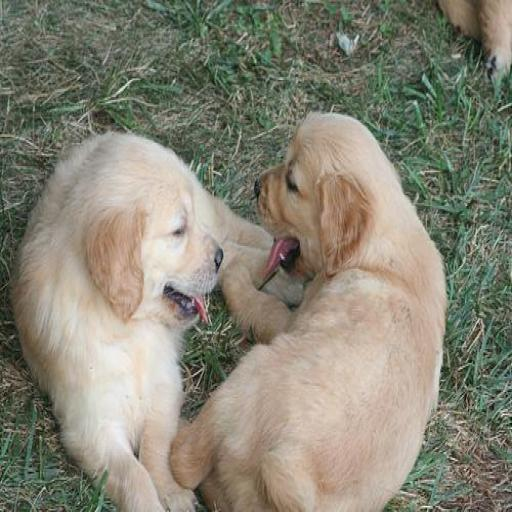dog_face: (80, 141, 218, 328), (256, 117, 380, 278)
